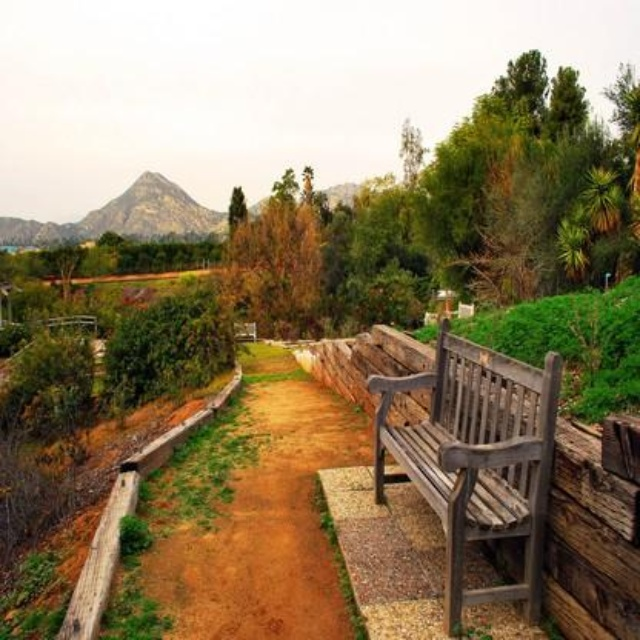obstacle: (329, 323, 580, 629)
